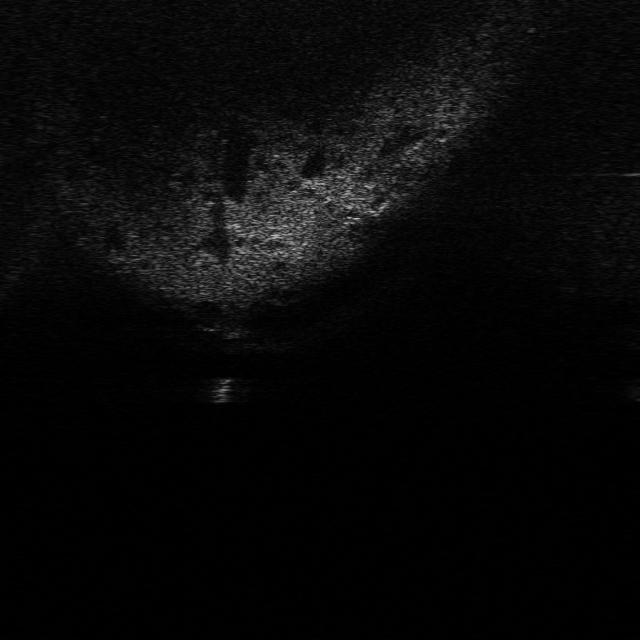cylinder: (207, 373, 236, 404)
